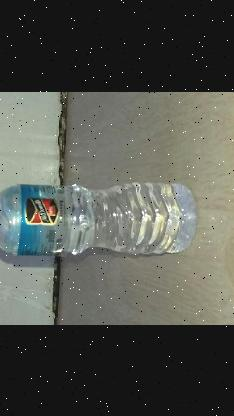Plastic Bottle: (0, 150, 200, 259)
